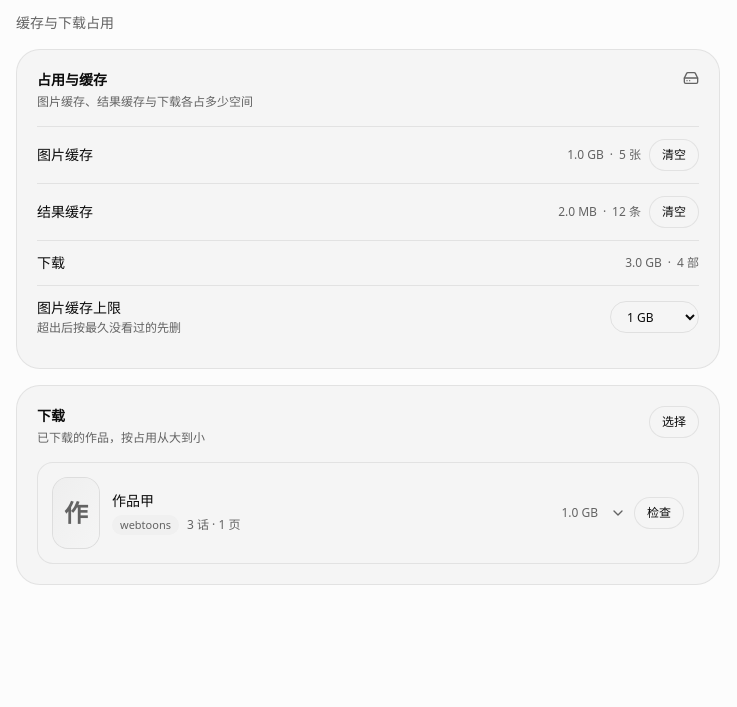
Test: 存储页的完整性检查 › 行右侧的「检查」与点行一样展开并跑检查
expect the text "作品甲" is shown: met, box left=112, top=491, right=154, bottom=510
Click the button "检查".
click(659, 513)  # box left=634, top=497, right=684, bottom=529
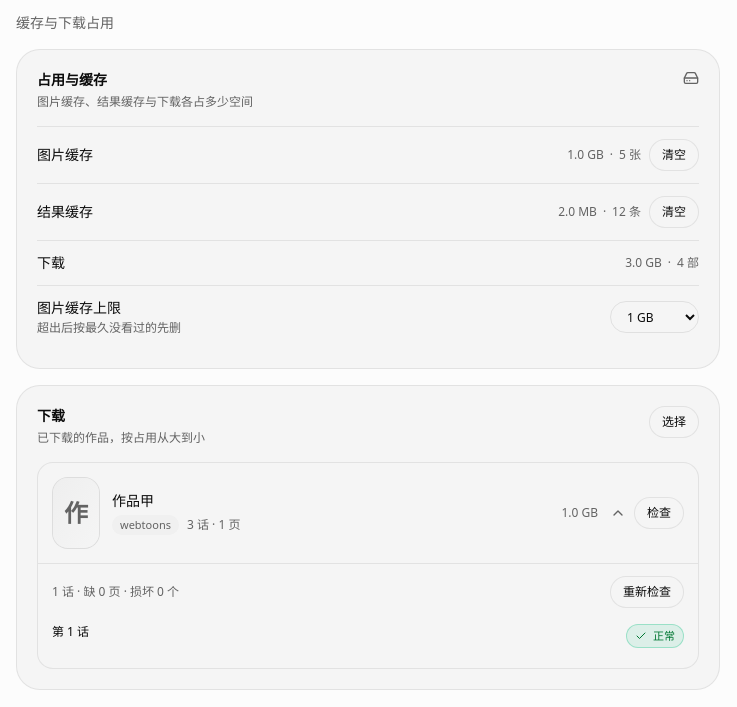
expect the text "1 话 · 缺 0 页 · 损坏 0 个" is shown: met, box left=52, top=584, right=179, bottom=600
